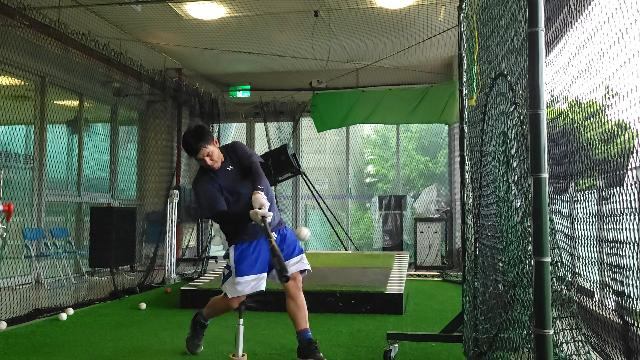ball: (294, 225, 312, 243)
bat: (260, 214, 292, 286)
